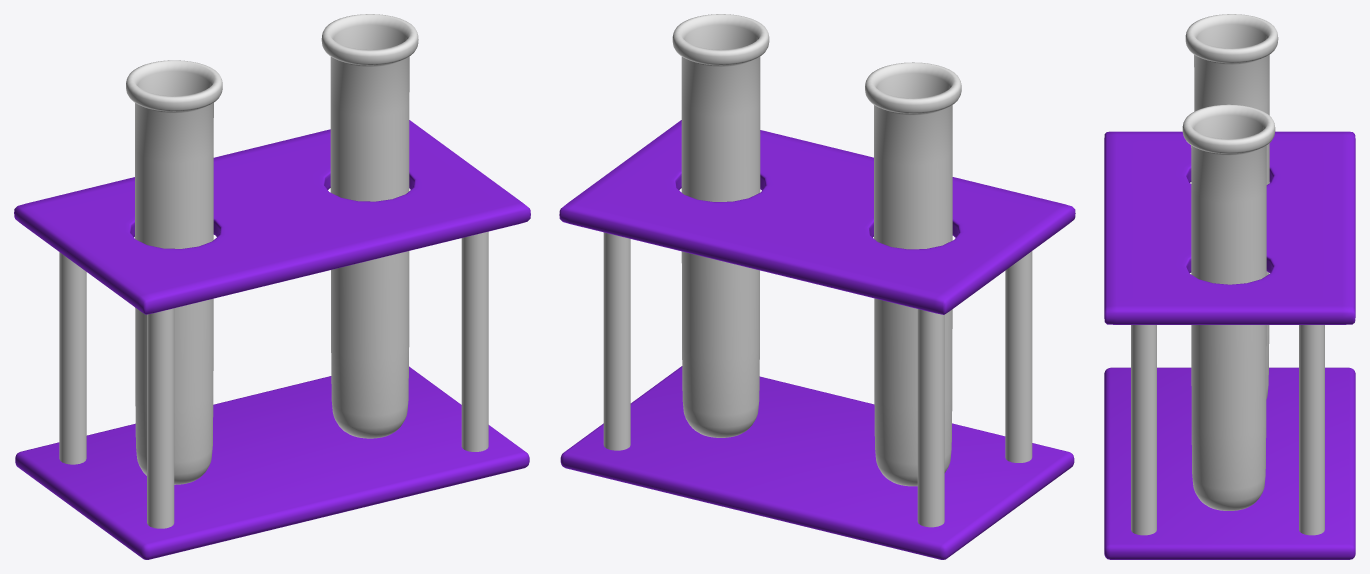
The model's file is smallob4.fbx.
3 renders of one model, left to right at view 1: azimuth 30°, elevation 25°; view 2: azimuth 150°, elevation 25°; view 3: azimuth 270°, elevation 25°, orthographic. The views are drawn at different scales.
Parts seen in each view (by area): view 1: Plane; view 2: Plane; view 3: Plane.
Part boxes in pixels (x1=…): Plane: x1=14, y1=14, x2=530, y2=559; Plane: x1=559, y1=14, x2=1075, y2=559; Plane: x1=1104, y1=14, x2=1355, y2=559.
Size of the model in its own units: 30.96 by 31.43 by 18.18.
